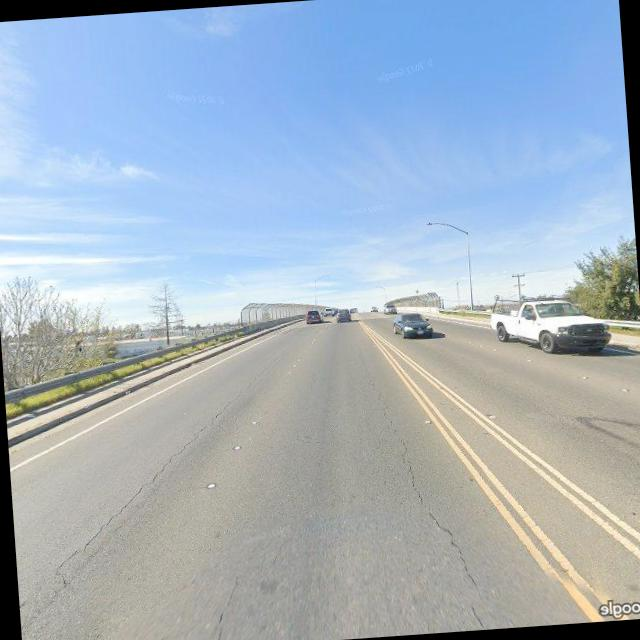pothole: (42, 402, 239, 578), (378, 378, 488, 610), (202, 569, 248, 640)
